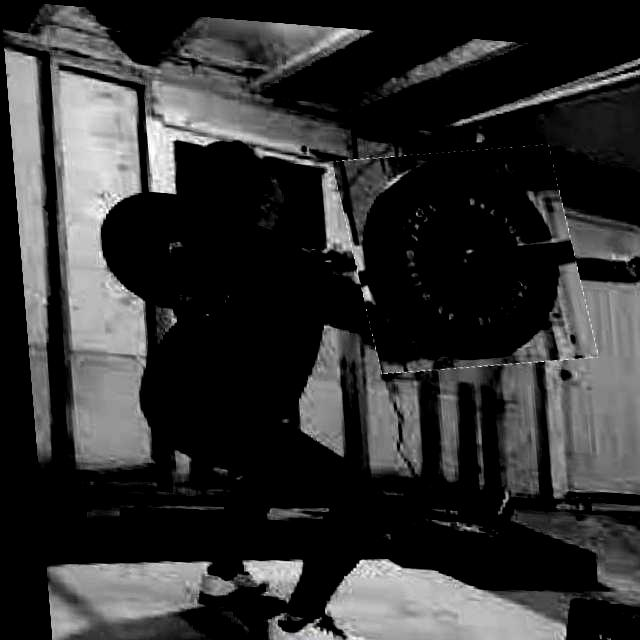barbell: (337, 131, 587, 374)
